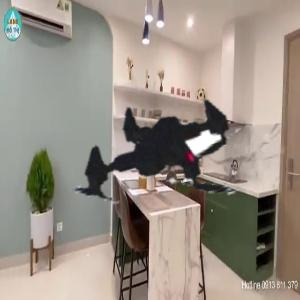drone: (36, 42, 286, 292)
